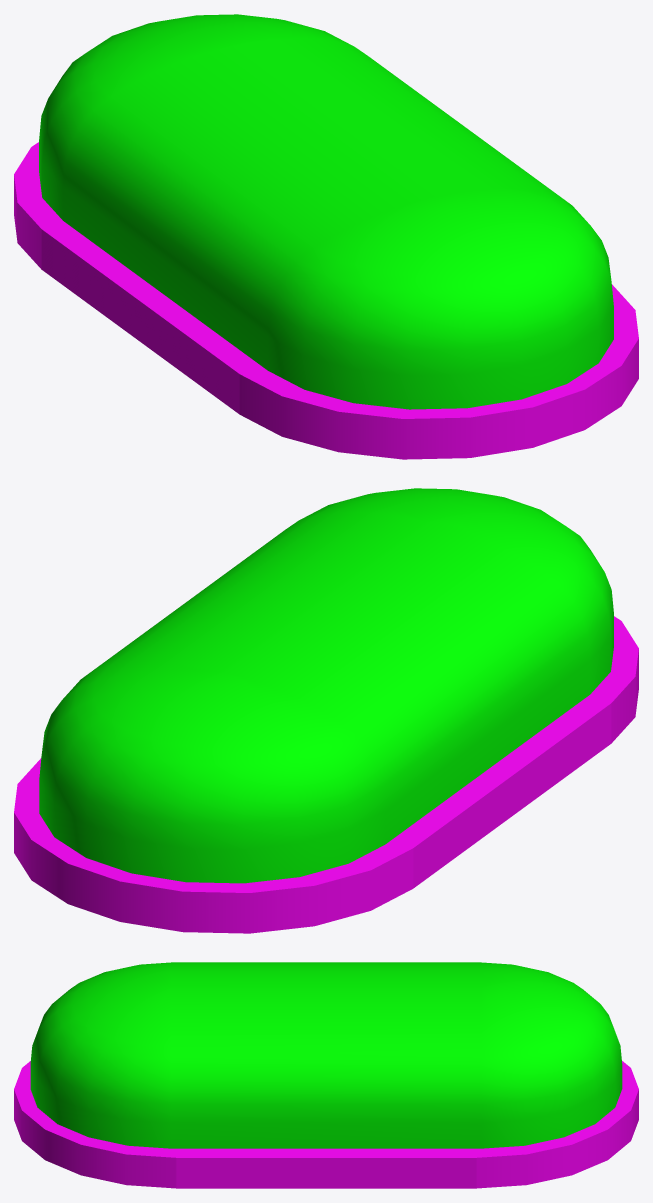
File: PillLight.fbx
The picture shows the model from 3 angles, top to bottom: view 1: azimuth 30°, elevation 25°; view 2: azimuth 150°, elevation 25°; view 3: azimuth 270°, elevation 25°; orthographic projection. The views are drawn at different scales.
Visible parts, largest first — view 1: long_emergency_light, Base_long_emergency_light; view 2: long_emergency_light, Base_long_emergency_light; view 3: long_emergency_light, Base_long_emergency_light.
Part boxes in pixels (x1,y1,x2,y2): long_emergency_light: [39, 14, 613, 409]; Base_long_emergency_light: [14, 142, 638, 459]; long_emergency_light: [39, 488, 613, 883]; Base_long_emergency_light: [14, 616, 638, 933]; long_emergency_light: [30, 962, 622, 1148]; Base_long_emergency_light: [14, 1061, 638, 1188].
Size of the model in its own units: 5.65 by 2.52 by 10.87.
